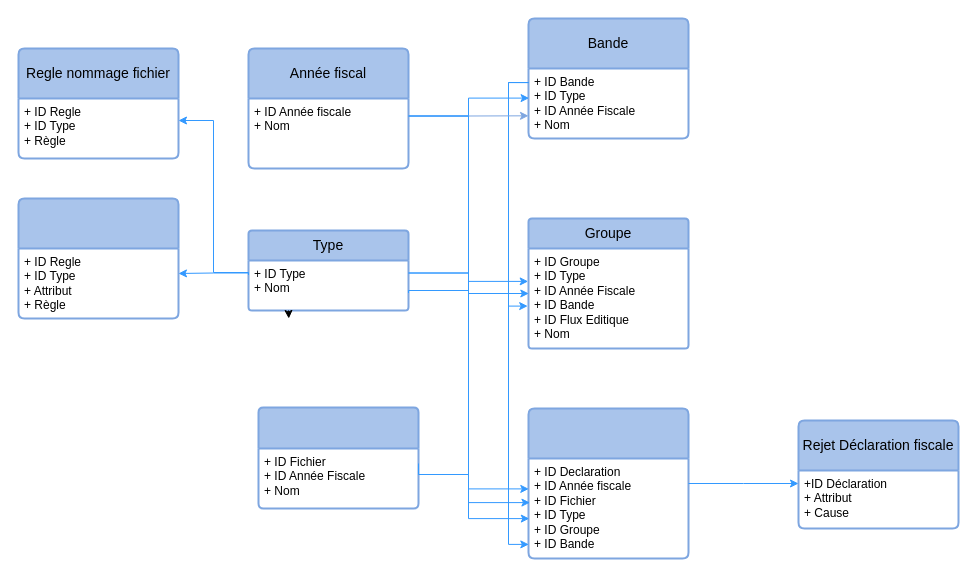
Some shapes in this 976 by 576 pixel diagram are drawn without their labels. Each missing label, with the box of its shape:
Déclaration fiscale: (527, 407, 689, 559)
Fichier Integrer: (257, 406, 419, 509)
Regle taille des attributs: (17, 197, 179, 319)
